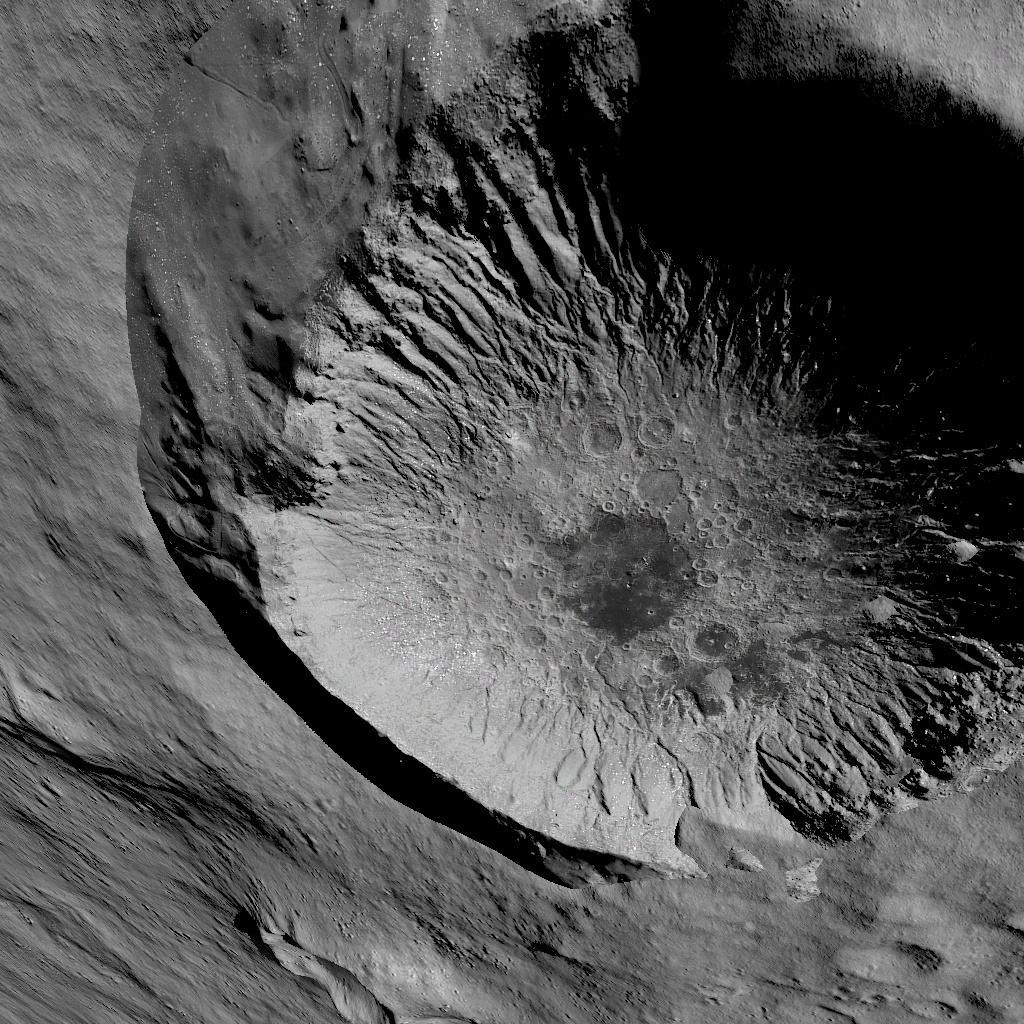Crater: (108, 2, 1024, 902)
